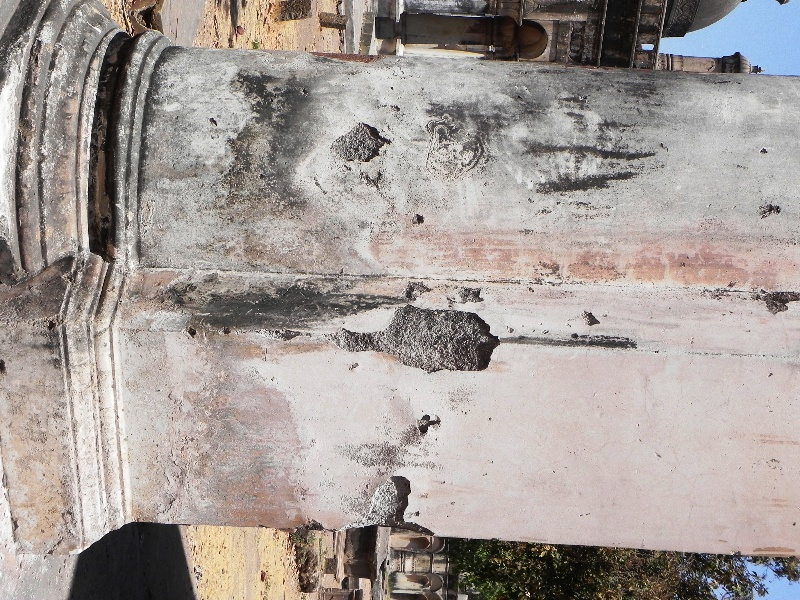Spalling: (321, 303, 509, 373), (331, 466, 442, 537), (328, 119, 392, 165), (415, 405, 442, 440)
